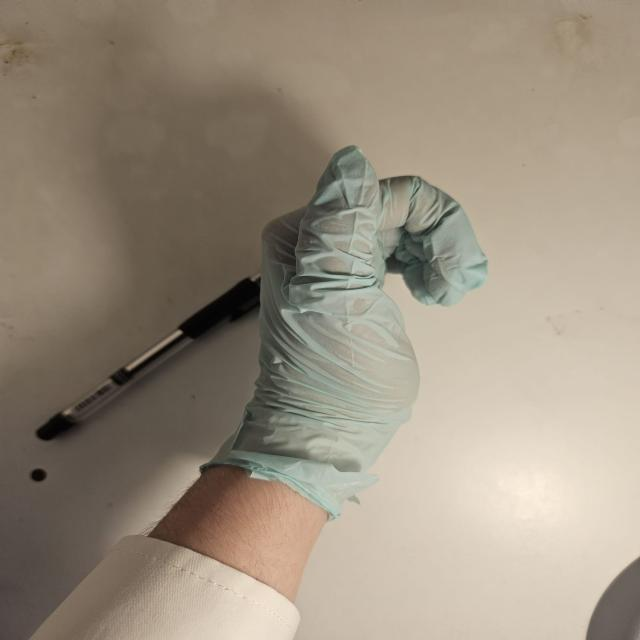gloves_damaged: (200, 140, 488, 521)
